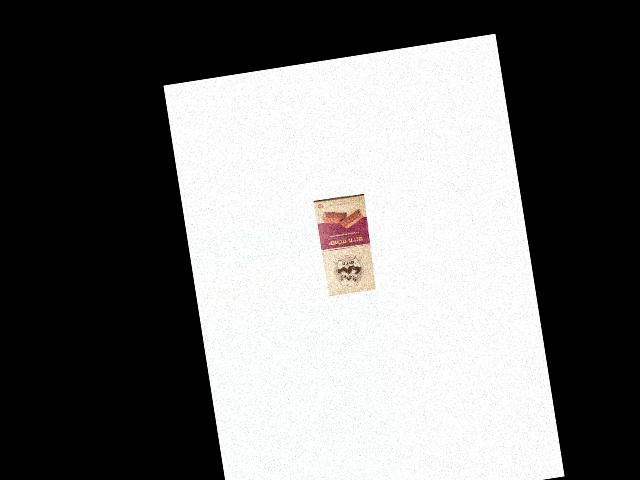chocolate: (314, 192, 380, 297)
